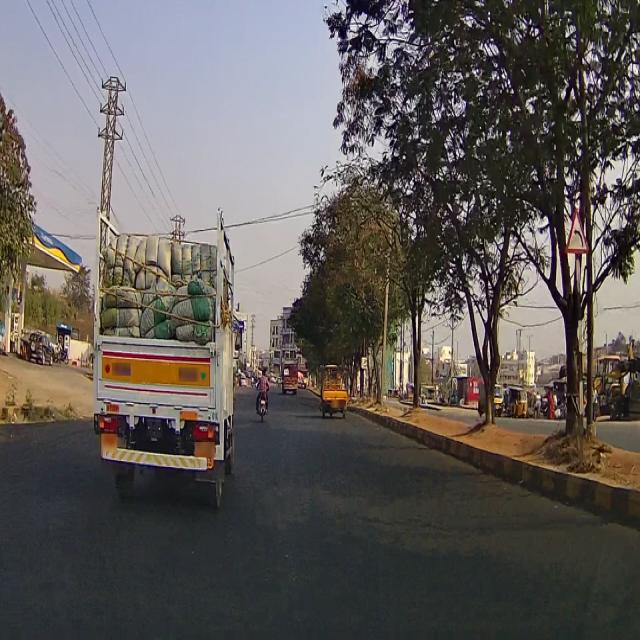left-hand-curve: (564, 206, 590, 254)
